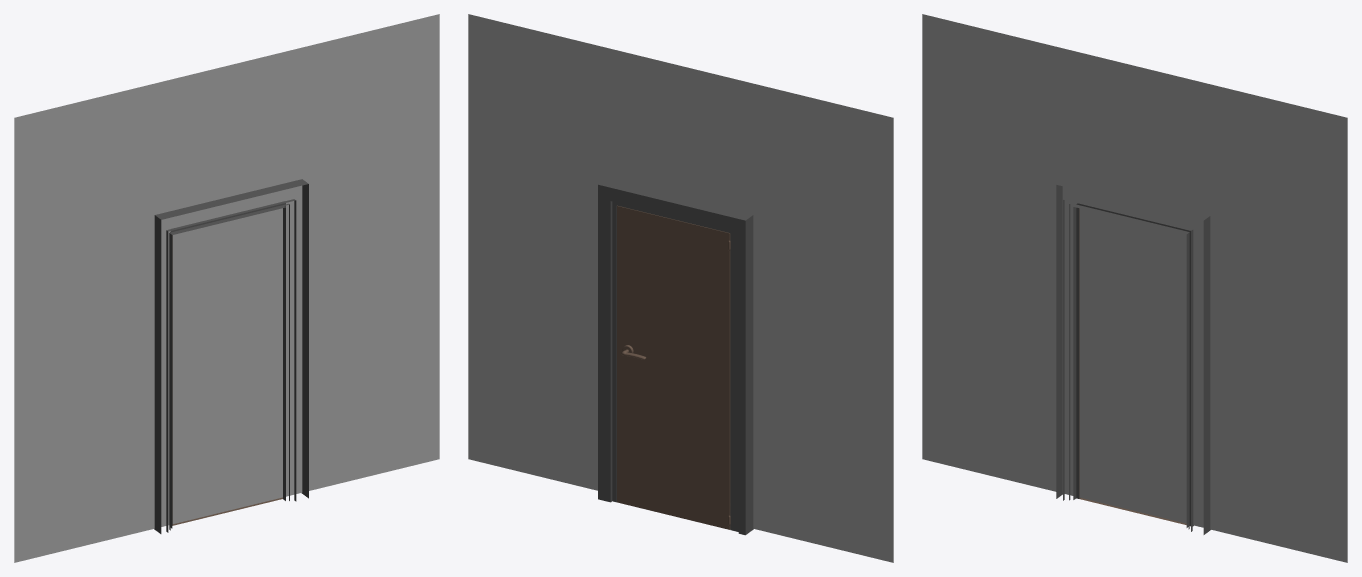
Rendered from 3x3Door.fbx.
3 renders of one model, left to right at view 1: azimuth 30°, elevation 25°; view 2: azimuth 150°, elevation 25°; view 3: azimuth 330°, elevation 25°, orthographic.
Parts seen in each view (by area): view 1: polySurface37; view 2: polySurface37; view 3: polySurface37.
Part boxes in pixels (x1,y1,x2,y2): polySurface37: [14, 14, 439, 562]; polySurface37: [468, 14, 893, 562]; polySurface37: [922, 14, 1347, 562].
Size of the model in its own units: 300 by 301 by 22.57.
